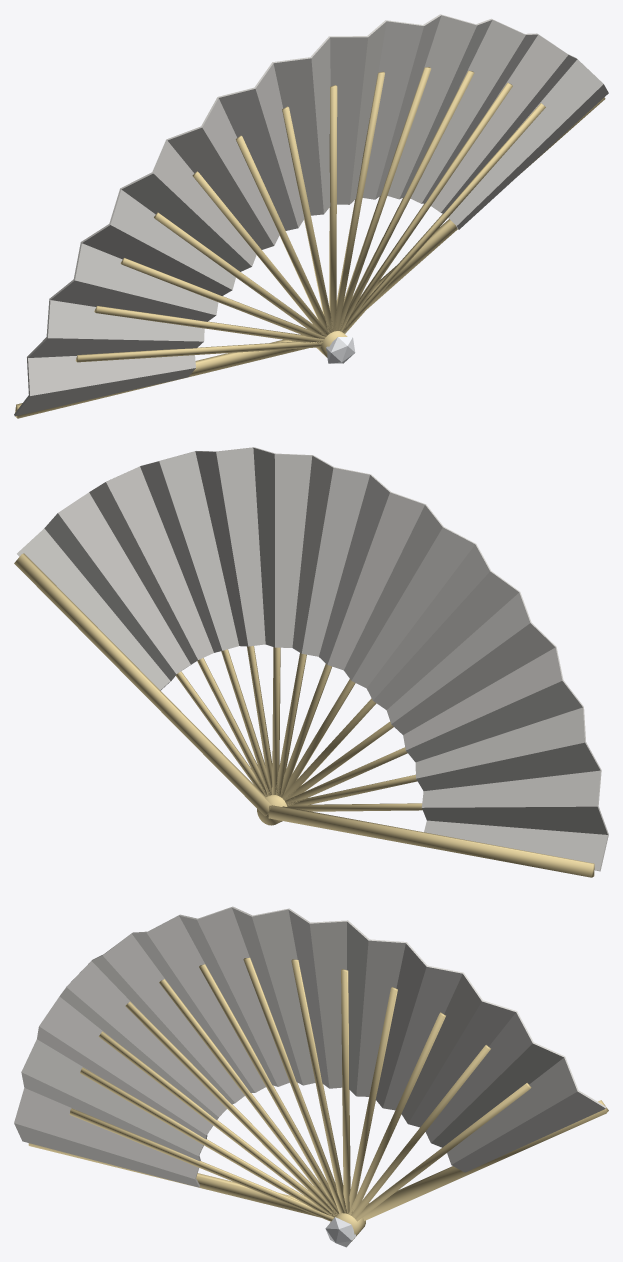
The model's file is abanico.glb.
The picture shows the model from 3 angles, top to bottom: view 1: azimuth 30°, elevation 25°; view 2: azimuth 150°, elevation 25°; view 3: azimuth 330°, elevation 25°; orthographic projection.
Parts seen in each view (by area): view 1: Abanico_XVA_Editorial; view 2: Abanico_XVA_Editorial; view 3: Abanico_XVA_Editorial.
Part boxes in pixels (box(x1,y1,x2,y2)): Abanico_XVA_Editorial: box(14, 14, 608, 418); Abanico_XVA_Editorial: box(14, 447, 608, 877); Abanico_XVA_Editorial: box(14, 906, 608, 1247).
Size of the model in its own units: 1.21 by 0.6862 by 0.1624.
